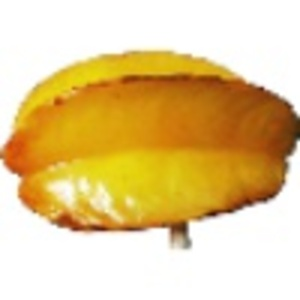carambola: (1, 48, 300, 252)
